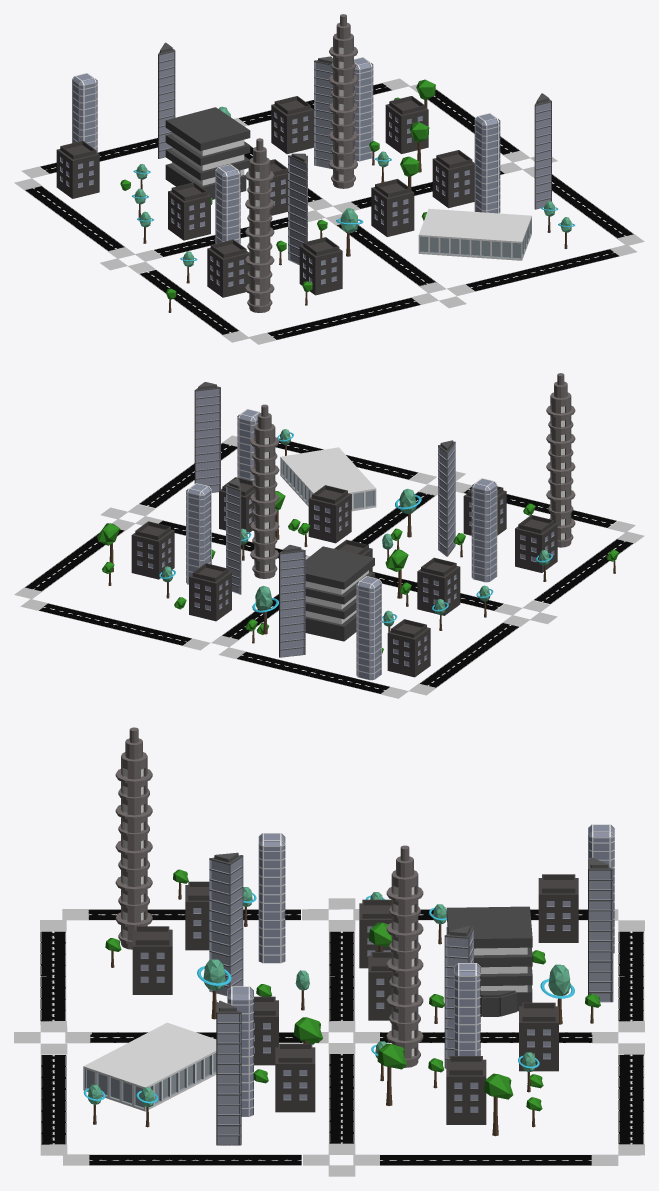
File: LowPolyCity.fbx
The picture shows the model from 3 angles, top to bottom: view 1: azimuth 30°, elevation 25°; view 2: azimuth 150°, elevation 25°; view 3: azimuth 270°, elevation 25°; orthographic projection. The views are drawn at different scales.
Parts seen in each view (by area): view 1: pCube44, pCube41, pCylinder59, pCylinder60, pCube42, Building10, Building14, Building05, Building13, Building17, Building15, Building16 (+9 smaller); view 2: pCube44, pCylinder60, pCylinder59, pCube41, TriangleBuilding2, TriangleBuilding4, pCube39, pCube36, pCube43, Building10, Building14, Building05 (+8 smaller); view 3: pCube41, pCube44, pCylinder60, pCylinder59, TriangleBuilding3, TriangleBuilding4, pCube39, TriangleBuilding2, Building17, Building15, Building10, Building11 (+9 smaller).
Part boxes in pixels (x1=…): pCube44: x1=165, y1=107, x2=250, y2=199; pCube41: x1=418, y1=208, x2=531, y2=260; pCylinder59: x1=245, y1=138, x2=274, y2=312; pCylinder60: x1=329, y1=14, x2=357, y2=188; pCube42: x1=474, y1=113, x2=500, y2=213; Building10: x1=56, y1=140, x2=99, y2=198; Building14: x1=371, y1=179, x2=414, y2=236; Building05: x1=271, y1=96, x2=313, y2=154; Building13: x1=168, y1=182, x2=210, y2=240; Building17: x1=432, y1=150, x2=474, y2=208; Building15: x1=299, y1=237, x2=342, y2=295; Building16: x1=207, y1=239, x2=249, y2=297; pCube44: x1=305, y1=546, x2=374, y2=641; pCylinder60: x1=250, y1=404, x2=279, y2=578; pCylinder59: x1=546, y1=373, x2=575, y2=547; pCube41: x1=280, y1=447, x2=376, y2=511; TriangleBuilding2: x1=279, y1=545, x2=305, y2=657; TriangleBuilding4: x1=194, y1=382, x2=220, y2=492; pCube39: x1=471, y1=478, x2=497, y2=582; pCube36: x1=356, y1=576, x2=381, y2=680; pCube43: x1=186, y1=483, x2=211, y2=584; Building10: x1=387, y1=619, x2=430, y2=677; Building14: x1=308, y1=485, x2=351, y2=543; Building05: x1=189, y1=563, x2=231, y2=621; pCube41: x1=83, y1=1022, x2=216, y2=1111; pCube44: x1=446, y1=906, x2=532, y2=1016; pCylinder60: x1=386, y1=845, x2=423, y2=1067; pCylinder59: x1=115, y1=727, x2=152, y2=949; TriangleBuilding3: x1=209, y1=852, x2=243, y2=996; TriangleBuilding4: x1=216, y1=1000, x2=241, y2=1145; pCube39: x1=258, y1=833, x2=285, y2=963; TriangleBuilding2: x1=588, y1=857, x2=613, y2=1002; Building17: x1=275, y1=1043, x2=315, y2=1112; Building15: x1=132, y1=926, x2=172, y2=994; Building10: x1=538, y1=874, x2=578, y2=942; Building11: x1=446, y1=1056, x2=486, y2=1124.
Size of the model in its own units: 24.82 by 9.1 by 23.68.
